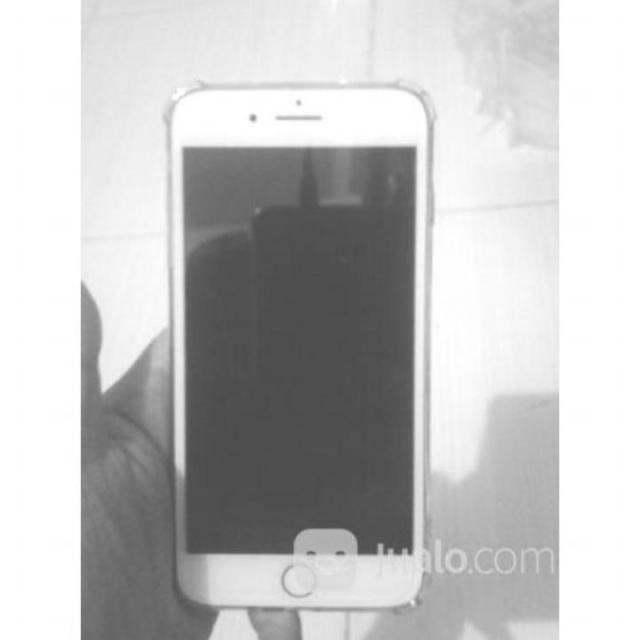fake: (159, 78, 451, 622)
